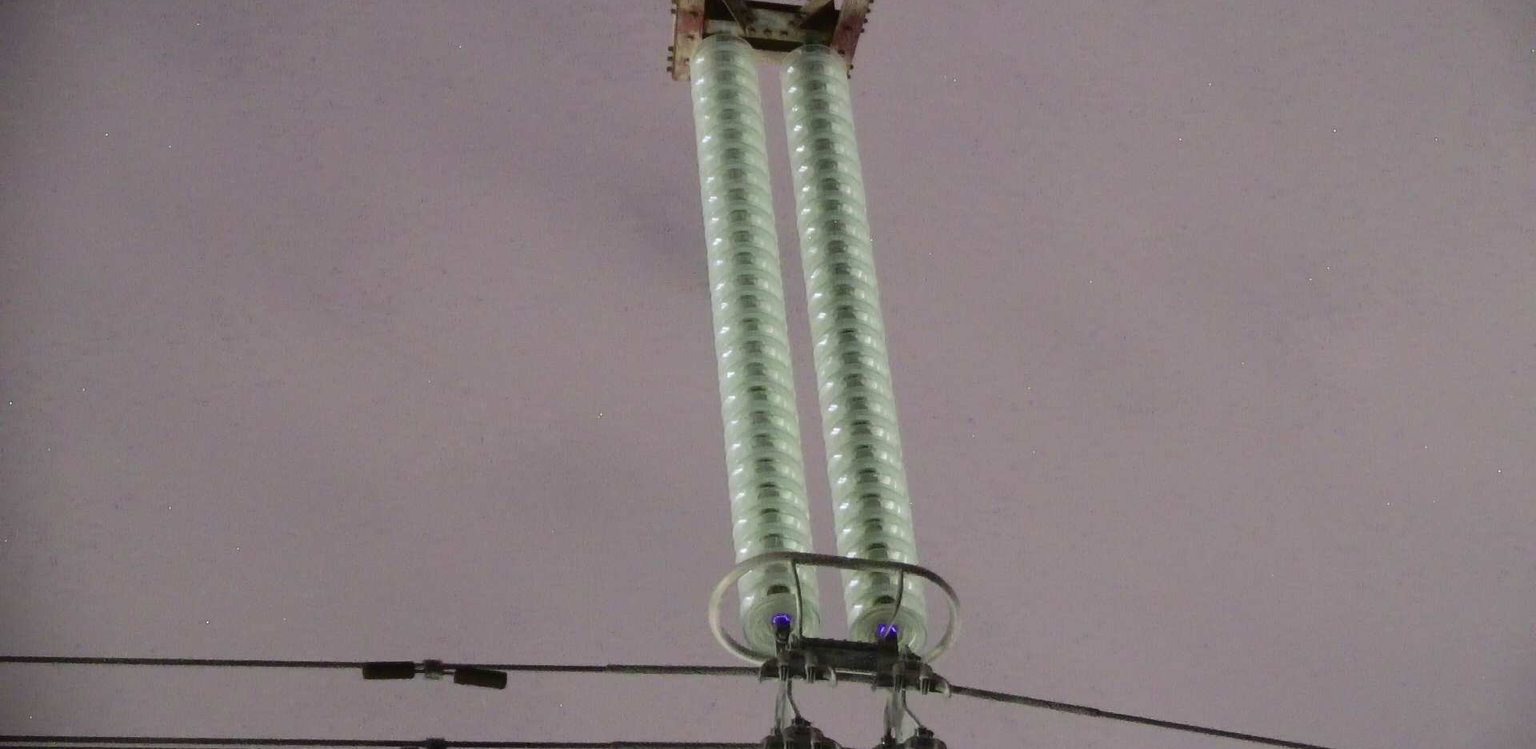绝缘子污闪: (771, 612, 790, 624), (879, 625, 896, 634)
